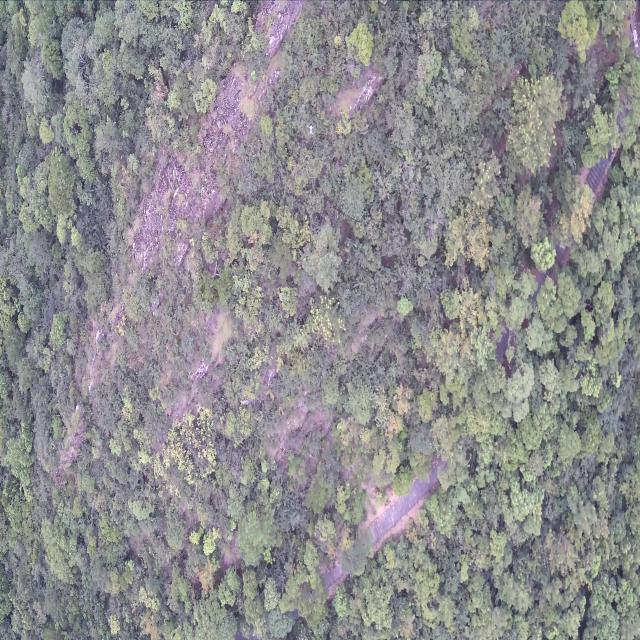UAV: (307, 125, 314, 135)
